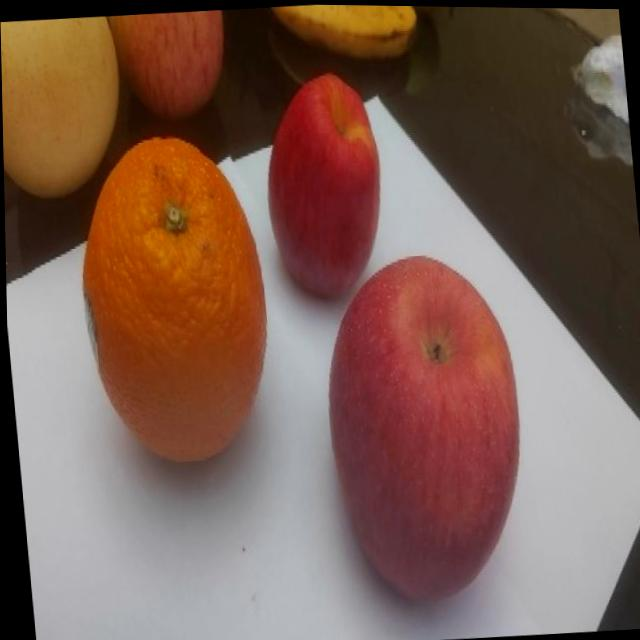Apple: (313, 248, 534, 610), (256, 67, 392, 304), (108, 8, 234, 125)
Orange: (68, 128, 279, 470)
